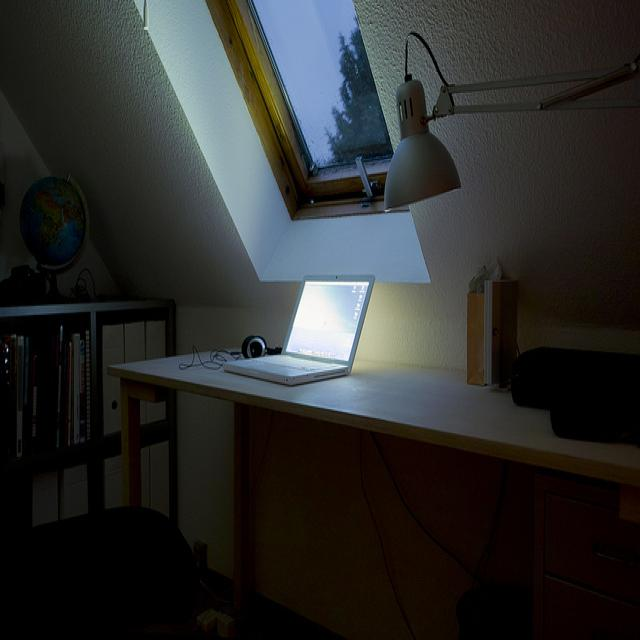Table: (107, 318, 640, 640)
